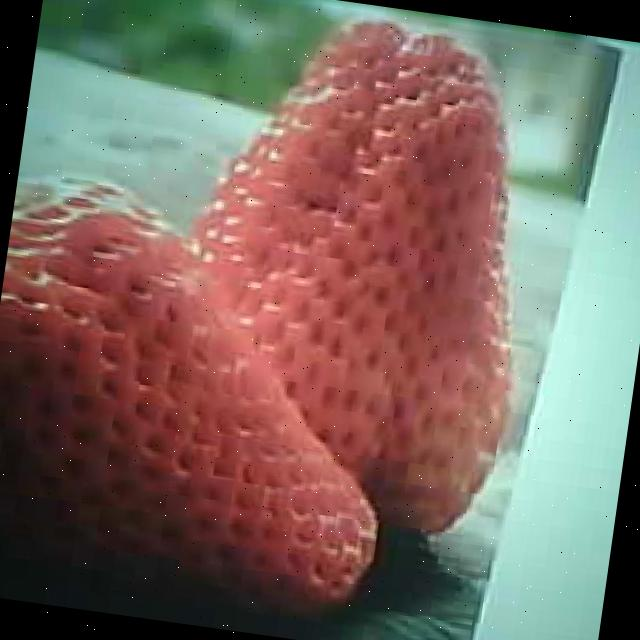strawberry: (146, 0, 552, 540), (0, 167, 422, 628)
